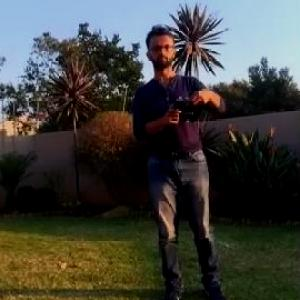follow: (127, 17, 233, 299)
